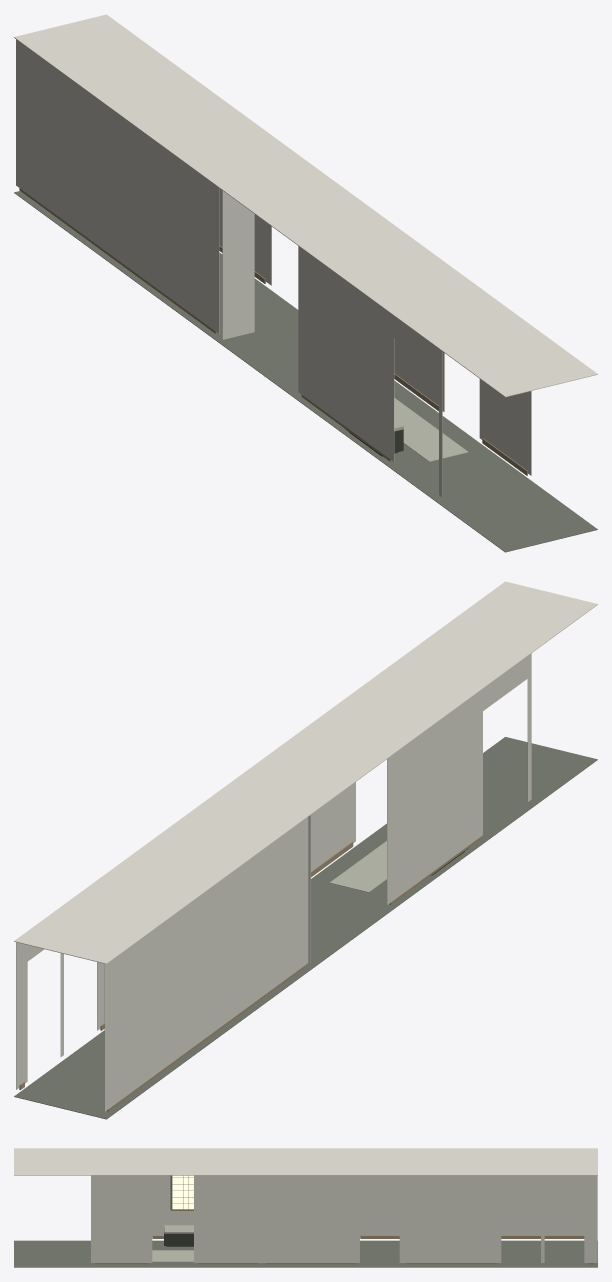
File: corridor-1.glb
3 views of the same model, one above another, from view 1: azimuth 30°, elevation 25°; view 2: azimuth 150°, elevation 25°; view 3: azimuth 270°, elevation 25° (orthographic). The views are drawn at different scales.
Parts seen in each view (by area): view 1: DESIGN | Entrance coordinated ceiling, DESIGN | Entrance paired wall finish, DESIGN | Entrance floor finish, DESIGN | Entrance paired wall finish.003, DESIGN | Arch approach finish, DESIGN | Entrance paired wall finish.013, DESIGN | Entrance quiet runner, DESIGN | Entrance paired wall finish.012, DESIGN | Entrance paired wall finish.006, DESIGN | Entrance paired wall finish.002; view 2: DESIGN | Entrance coordinated ceiling, DESIGN | Entrance paired wall finish, DESIGN | Entrance floor finish, DESIGN | Entrance paired wall finish.003, DESIGN | Entrance paired wall finish.012, DESIGN | Entrance paired wall finish.005, DESIGN | Entrance quiet runner, DESIGN | Entrance paired wall finish.002, DESIGN | Entrance paired wall finish.001; view 3: DESIGN | Entrance coordinated ceiling, DESIGN | Entrance paired wall finish.006, DESIGN | Entrance paired wall finish.009, DESIGN | Entrance floor finish, DESIGN | Entrance paired wall finish.012, DESIGN | Entrance paired wall finish, DESIGN | Entrance paired wall finish.013, DESIGN | Entrance paired wall finish.003, DESIGN | Entrance paired wall finish.005, DESIGN | Kumiko opal diffuser, DESIGN | Entrance paired wall finish.007, DESIGN | Entrance paired wall finish.010 (+8 smaller).
Part boxes in pixels (x1,y1,x2,y2): DESIGN | Entrance coordinated ceiling: [14, 14, 597, 397]; DESIGN | Entrance paired wall finish: [16, 39, 219, 333]; DESIGN | Entrance floor finish: [14, 191, 597, 552]; DESIGN | Entrance paired wall finish.003: [298, 246, 394, 461]; DESIGN | Arch approach finish: [222, 190, 254, 339]; DESIGN | Entrance paired wall finish.013: [479, 379, 531, 475]; DESIGN | Entrance quiet runner: [394, 398, 468, 461]; DESIGN | Entrance paired wall finish.012: [394, 339, 444, 411]; DESIGN | Entrance paired wall finish.006: [219, 188, 268, 283]; DESIGN | Entrance paired wall finish.002: [394, 316, 438, 370]; DESIGN | Entrance coordinated ceiling: [14, 581, 597, 964]; DESIGN | Entrance paired wall finish: [104, 817, 308, 1111]; DESIGN | Entrance floor finish: [14, 737, 597, 1119]; DESIGN | Entrance paired wall finish.003: [387, 689, 482, 904]; DESIGN | Entrance paired wall finish.012: [311, 782, 355, 871]; DESIGN | Entrance paired wall finish.005: [16, 942, 27, 1089]; DESIGN | Entrance quiet runner: [329, 841, 386, 892]; DESIGN | Entrance paired wall finish.002: [483, 656, 527, 710]; DESIGN | Entrance paired wall finish.001: [527, 653, 531, 801]; DESIGN | Entrance coordinated ceiling: [14, 1148, 597, 1175]; DESIGN | Entrance paired wall finish.006: [402, 1175, 501, 1262]; DESIGN | Entrance paired wall finish.009: [262, 1175, 359, 1262]; DESIGN | Entrance floor finish: [14, 1240, 597, 1267]; DESIGN | Entrance paired wall finish.012: [194, 1175, 262, 1262]; DESIGN | Entrance paired wall finish: [360, 1176, 584, 1236]; DESIGN | Entrance paired wall finish.013: [91, 1175, 152, 1262]; DESIGN | Entrance paired wall finish.003: [152, 1175, 193, 1236]; DESIGN | Entrance paired wall finish.005: [584, 1175, 597, 1262]; DESIGN | Kumiko opal diffuser: [172, 1175, 193, 1209]; DESIGN | Entrance paired wall finish.007: [501, 1175, 540, 1191]; DESIGN | Entrance paired wall finish.010: [360, 1175, 399, 1191].
Size of the model in its own units: 1.7 by 2.73 by 15.61.
